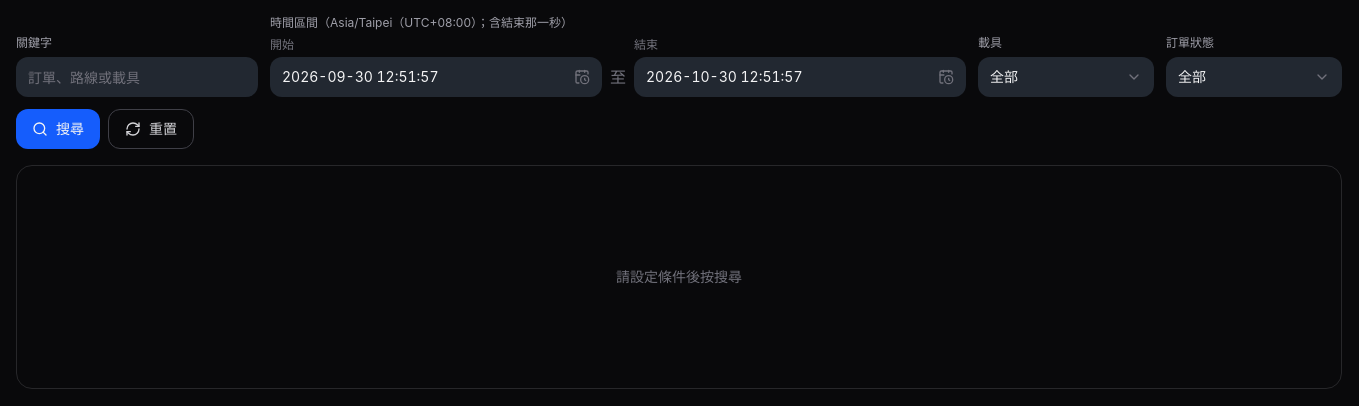
訂單管理記錄 › 首次只取選項，按搜尋才取 operation_orders 記錄，重置不重查
Click the button "搜尋" at (58, 129), box x1=16 y1=109 x2=100 y2=149
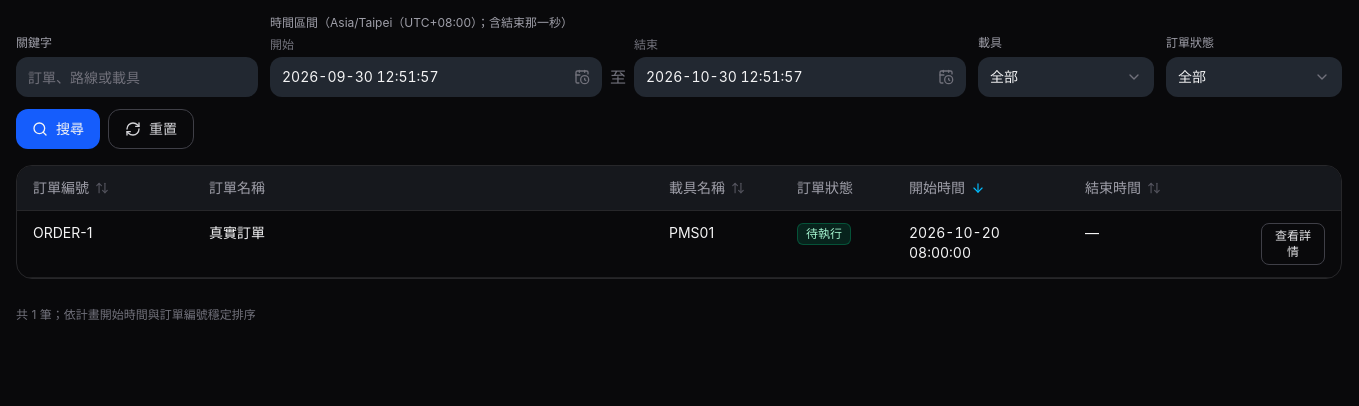
Expected: the text "真實訂單" is shown, x1=209 y1=224 x2=265 y2=241
Click the button "重置" at (151, 129), box x1=108 y1=109 x2=194 y2=149
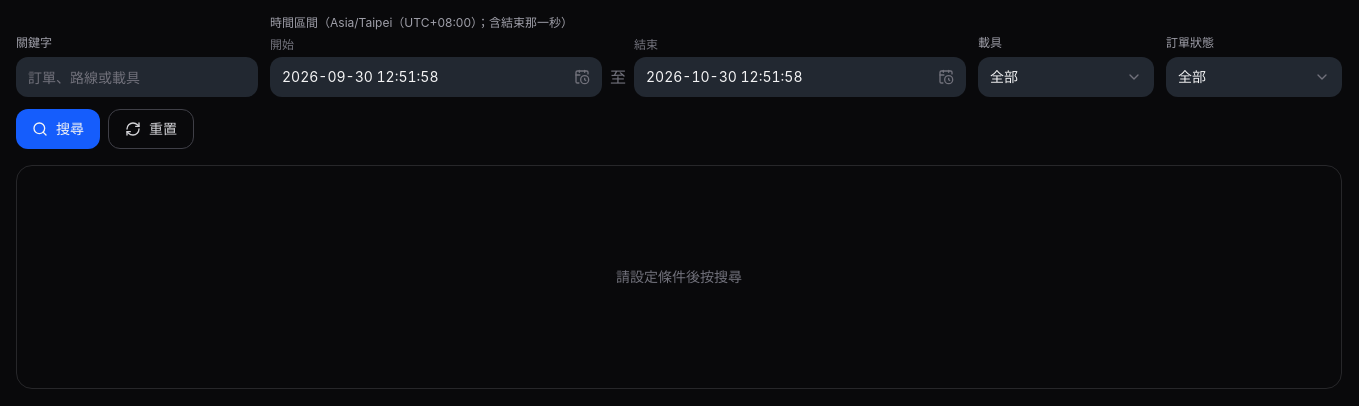
Expected: the text "請設定條件後按搜尋" is shown, x1=16 y1=165 x2=1342 y2=389
